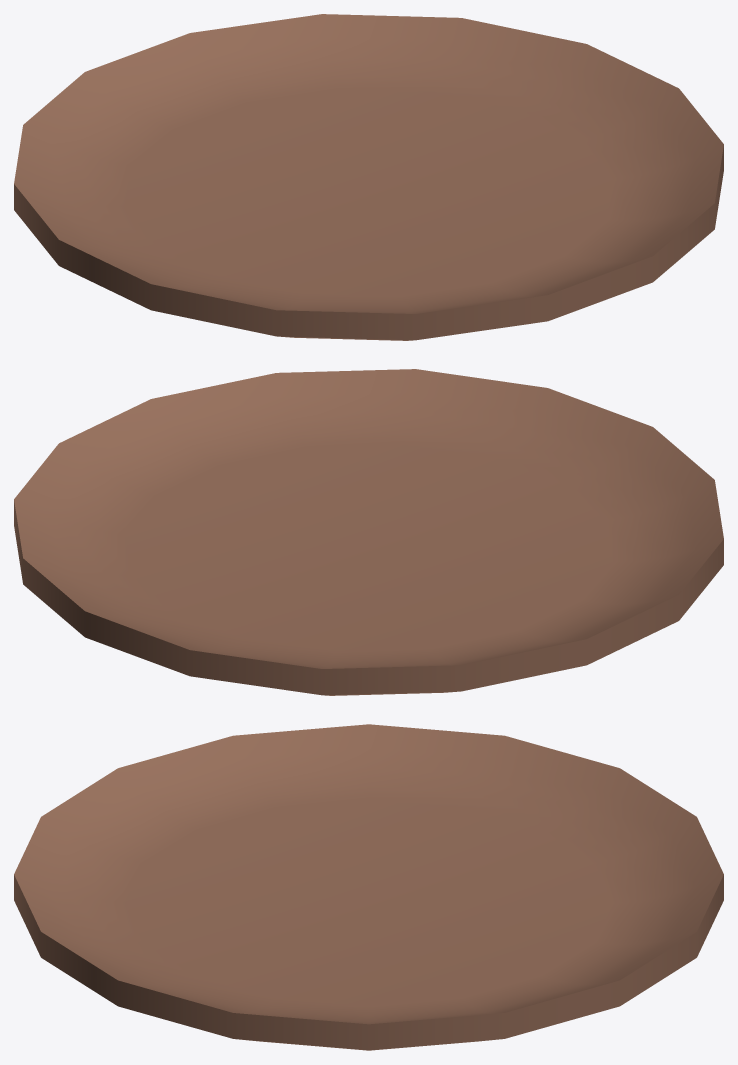
Rendered from Plate_01.fbx.
The picture shows the model from 3 angles, top to bottom: view 1: azimuth 30°, elevation 25°; view 2: azimuth 150°, elevation 25°; view 3: azimuth 270°, elevation 25°; orthographic projection.
Parts seen in each view (by area): view 1: Plate_01; view 2: Plate_01; view 3: Plate_01.
Part boxes in pixels (bbox=[...]): Plate_01: bbox=[14, 14, 723, 340]; Plate_01: bbox=[14, 369, 723, 695]; Plate_01: bbox=[14, 724, 723, 1050].
Bounding box in the file's own units: 27.48 × 2.34 × 27.48.
